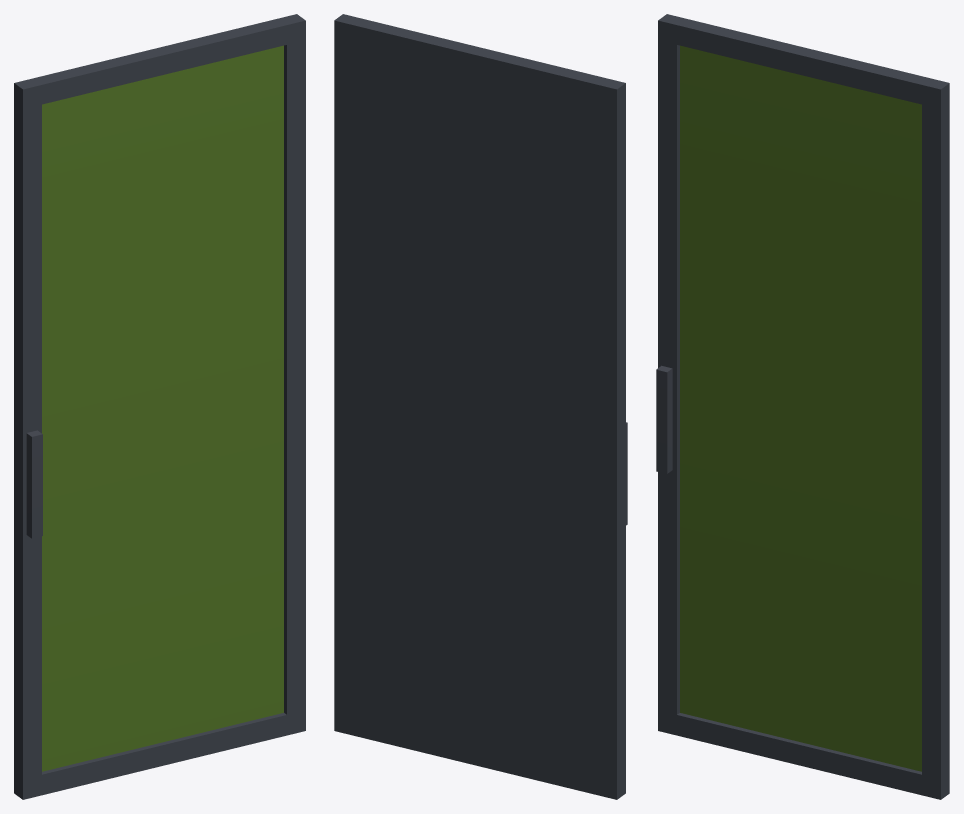
File: House_51_Door02.fbx
The picture shows the model from 3 angles, left to right: view 1: azimuth 30°, elevation 25°; view 2: azimuth 150°, elevation 25°; view 3: azimuth 330°, elevation 25°; orthographic projection.
Parts seen in each view (by area): view 1: House_51_Door02; view 2: House_51_Door02; view 3: House_51_Door02.
Boxes of the visible parts, left/top/right/bottom form: House_51_Door02: left=14, top=14, right=305, bottom=799; House_51_Door02: left=334, top=14, right=627, bottom=799; House_51_Door02: left=656, top=14, right=949, bottom=799.
Bounding box in the file's own units: 0.9165 × 2.2 × 0.08.
